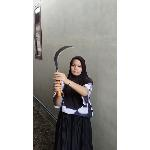Celurit: (51, 44, 77, 98)
